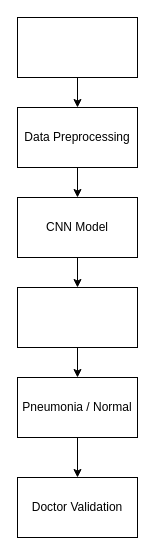
This 155x555 diagram has some shape labels left out. Each missing label, with the centre of its shape:
Chest X-ray Images: the point at 77,47
Prediction Layer: the point at 77,317
